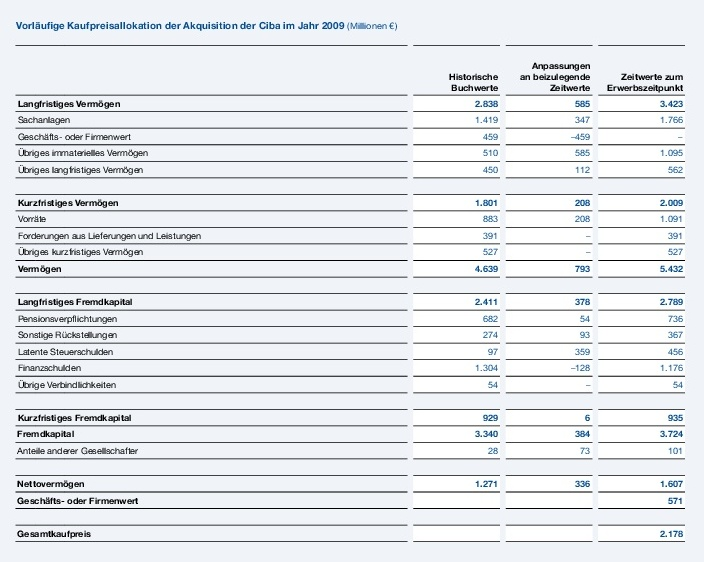table: (0, 0, 704, 562)
